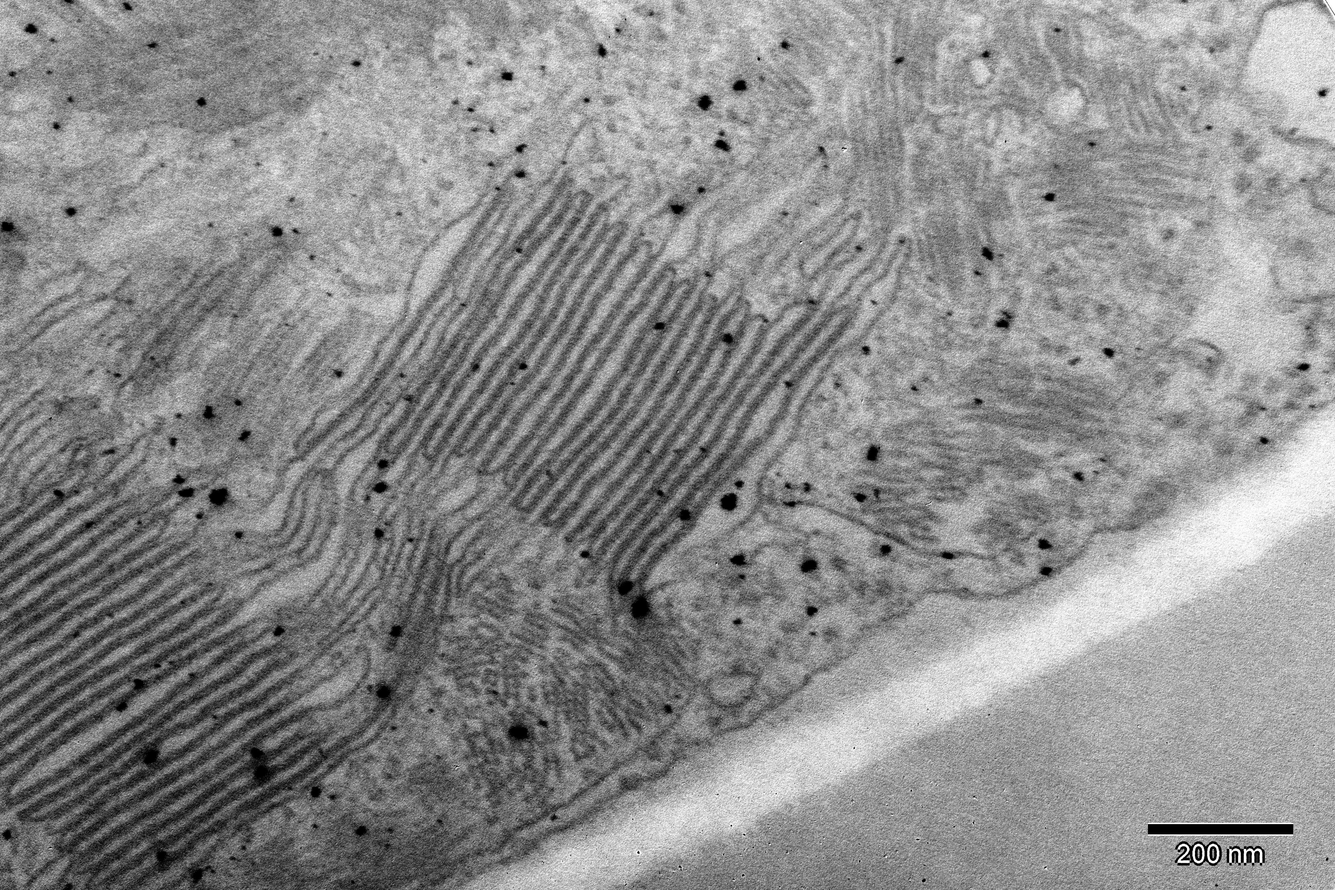granum: (376, 170, 883, 601), (0, 428, 415, 890), (357, 515, 452, 686)
